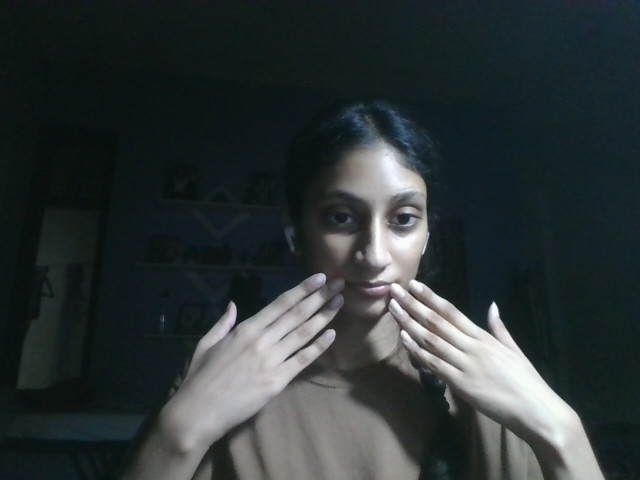thank you: (176, 272, 556, 442)
